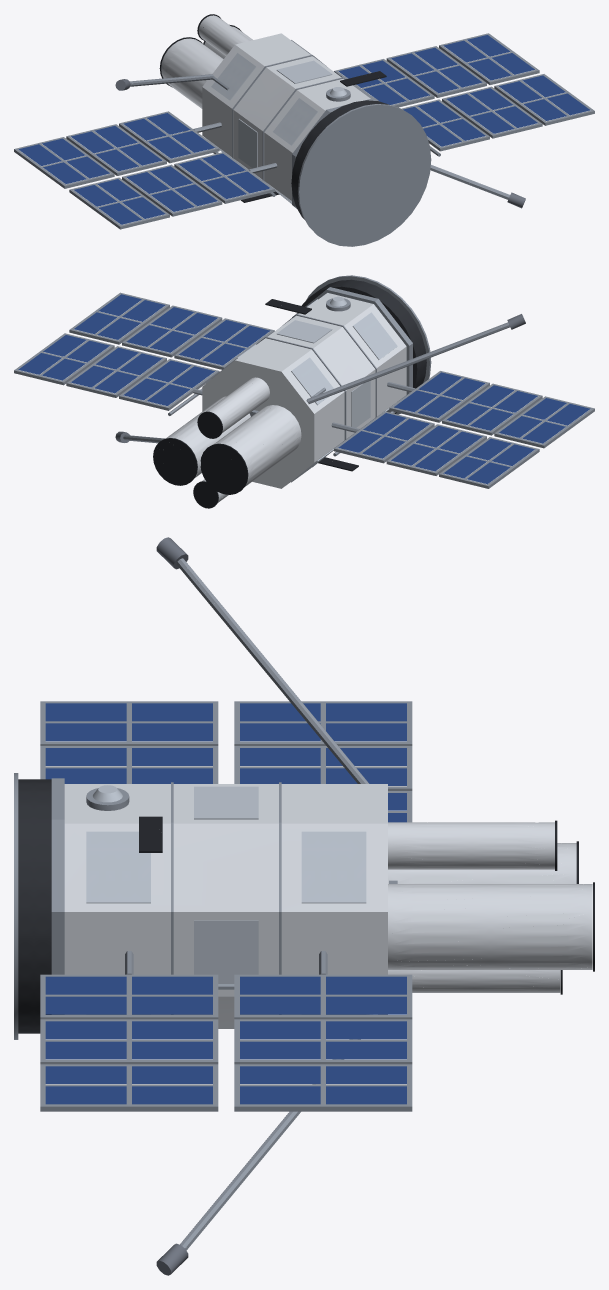
The model's file is oao-3.glb.
The picture shows the model from 3 angles, top to bottom: view 1: azimuth 30°, elevation 25°; view 2: azimuth 150°, elevation 25°; view 3: azimuth 270°, elevation 25°; orthographic projection. The views are drawn at different scales.
Parts seen in each view (by area): view 1: body, solar-panel, foil; view 2: body, solar-panel, foil; view 3: foil, solar-panel, body.
Boxes of the visible parts, x1,y1,x2,y2 form: body: (14, 14, 594, 246); solar-panel: (18, 35, 590, 224); foil: (161, 15, 370, 200); body: (14, 275, 594, 508); solar-panel: (18, 294, 590, 484); foil: (163, 293, 406, 502); foil: (64, 784, 592, 1028); solar-panel: (45, 703, 406, 1104); body: (14, 537, 594, 1275).
Bounding box in the file's own units: 8.9 × 4.04 × 5.39.
